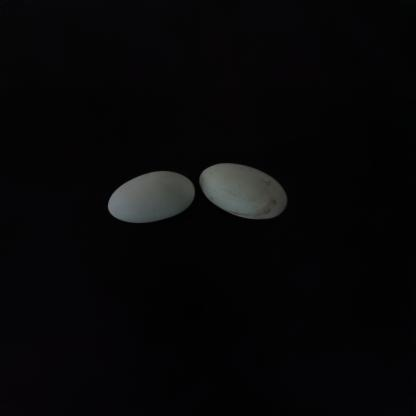egg: (200, 153, 294, 229), (98, 171, 204, 225)
